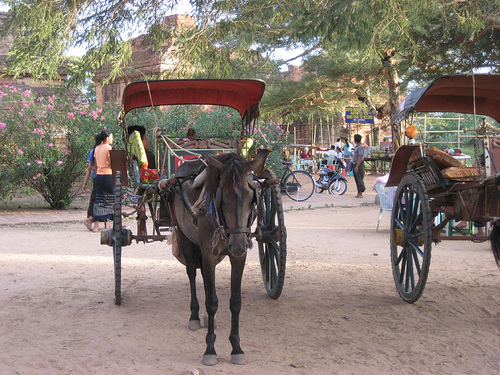horse: (164, 145, 273, 365)
